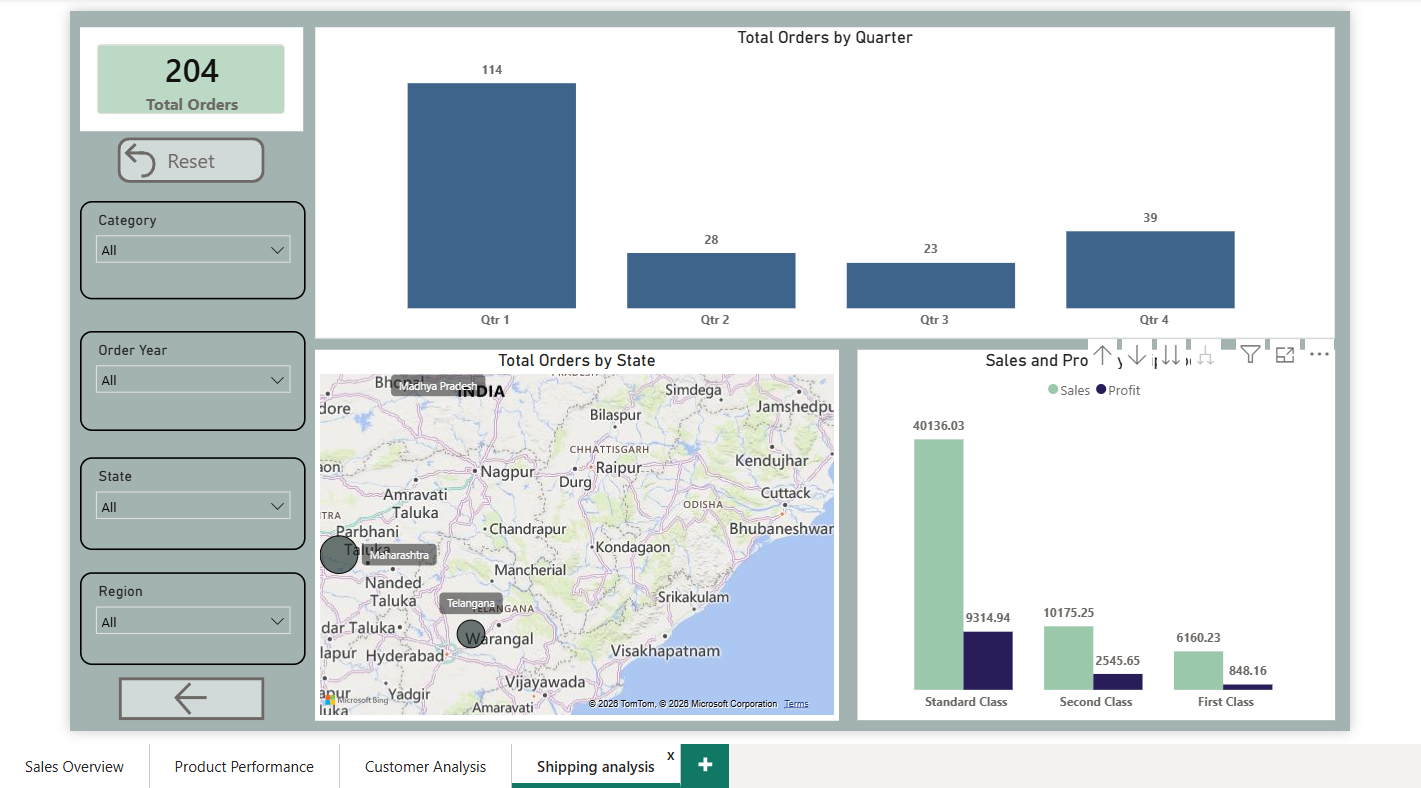

What the dashboard file says about the page in this screenshot:
{"tool":"powerbi","page":{"name":"Shipping analysis","canvas":[1280,720],"ordinal":3},"visuals":[{"type":"clusteredColumnChart","title":"Sales and Profit by Ship Mode","fields":{"Category":["Superstore_India.Ship Mode"],"Y":["Superstore_India.Total Sales","Superstore_India.Total Profit"]},"box":[787.5,338.8,477.5,370],"z":0},{"type":"columnChart","fields":{"Category":["Superstore_India.Delivery Days.Variation.Date Hierarchy.Year","Superstore_India.Delivery Days.Variation.Date Hierarchy.Quarter","Superstore_India.Delivery Days.Variation.Date Hierarchy.Month","Superstore_India.Delivery Days.Variation.Date Hierarchy.Day"],"Y":["Superstore_India.Total Orders"]},"box":[245,16.2,1020,311.2],"z":1000},{"type":"map","fields":{"Category":["Superstore_India.State"],"Size":["Superstore_India.Total Orders"]},"box":[245,338.8,523.8,370],"z":2000},{"type":"slicer","fields":{"Values":["Superstore_India.Category"]},"box":[10,190,225.7,98.6],"z":3000},{"type":"slicer","fields":{"Values":["Superstore_India.Order Year"]},"box":[10,320,225.7,100],"z":4000},{"type":"slicer","fields":{"Values":["Superstore_India.State"]},"box":[10,445.7,225.7,92.9],"z":5000},{"type":"slicer","fields":{"Values":["Superstore_India.Region"]},"box":[10,561.4,225.7,92.9],"z":6000},{"type":"actionButton","box":[47.1,125.7,147.1,45.7],"z":7000},{"type":"actionButton","box":[48.6,665.7,145.7,42.9],"z":8000},{"type":"cardVisual","fields":{"Data":["Superstore_India.Total Orders"]},"box":[10,15.7,222.9,104.3],"z":9000}]}

Visuals, with their boxes on the page's 1280x720 design canvas (x1, y1, x2, y2). These are canvas units, not pixel positions in the 1421x788 screenshot, which may show the page scaled, cropped or inside an application window:
"Sales and Profit by Ship Mode" clusteredColumnChart: locate(788, 339, 1265, 709)
columnChart - Superstore_India.Delivery Days.Variation.Date Hierarchy.Year x Superstore_India.Delivery Days.Variation.Date Hierarchy.Quarter: locate(245, 16, 1265, 327)
map - Superstore_India.State x Superstore_India.Total Orders: locate(245, 339, 769, 709)
slicer - Superstore_India.Category: locate(10, 190, 236, 289)
slicer - Superstore_India.Order Year: locate(10, 320, 236, 420)
slicer - Superstore_India.State: locate(10, 446, 236, 539)
slicer - Superstore_India.Region: locate(10, 561, 236, 654)
actionButton: locate(47, 126, 194, 171)
actionButton: locate(49, 666, 194, 709)
cardVisual - Superstore_India.Total Orders: locate(10, 16, 233, 120)
